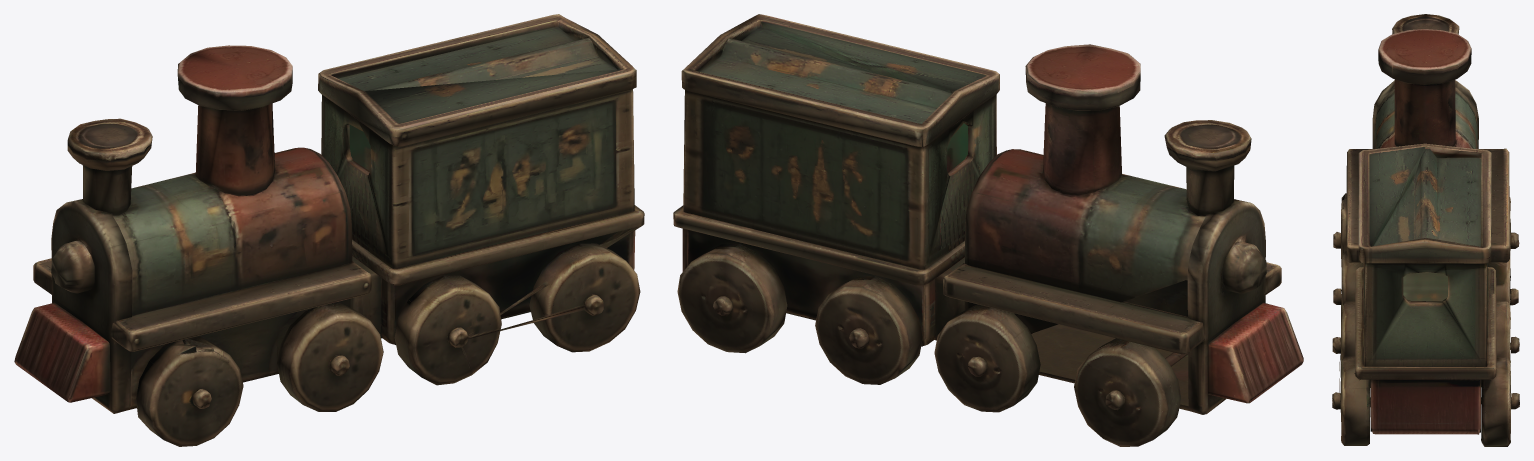
File: toy2.fbx
3 views of the same model, side by side, from view 1: azimuth 30°, elevation 25°; view 2: azimuth 150°, elevation 25°; view 3: azimuth 270°, elevation 25° (orthographic). The views are drawn at different scales.
Visible parts, largest first — view 1: mesh_node; view 2: mesh_node; view 3: mesh_node.
Part boxes in pixels (<box>): mesh_node: <box>14,14,644,446</box>; mesh_node: <box>673,14,1303,446</box>; mesh_node: <box>1332,14,1519,446</box>.
Size of the model in its own units: 100 by 55.08 by 34.77.
Materials: 1 (1 with a texture image).
